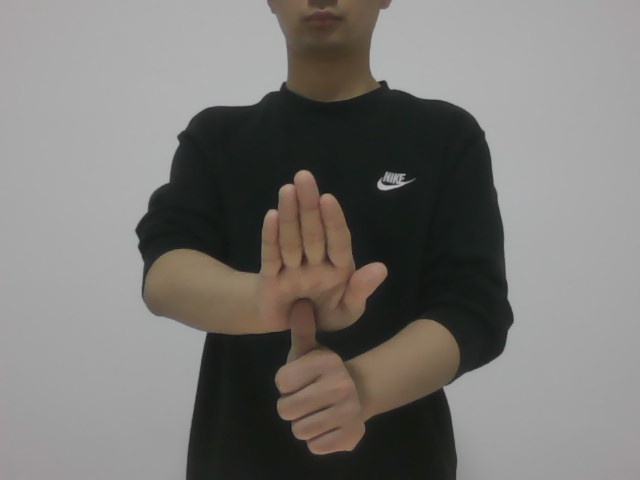love: (244, 166, 395, 445)
